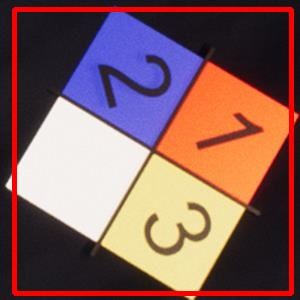nfpa: (14, 9, 291, 293)
